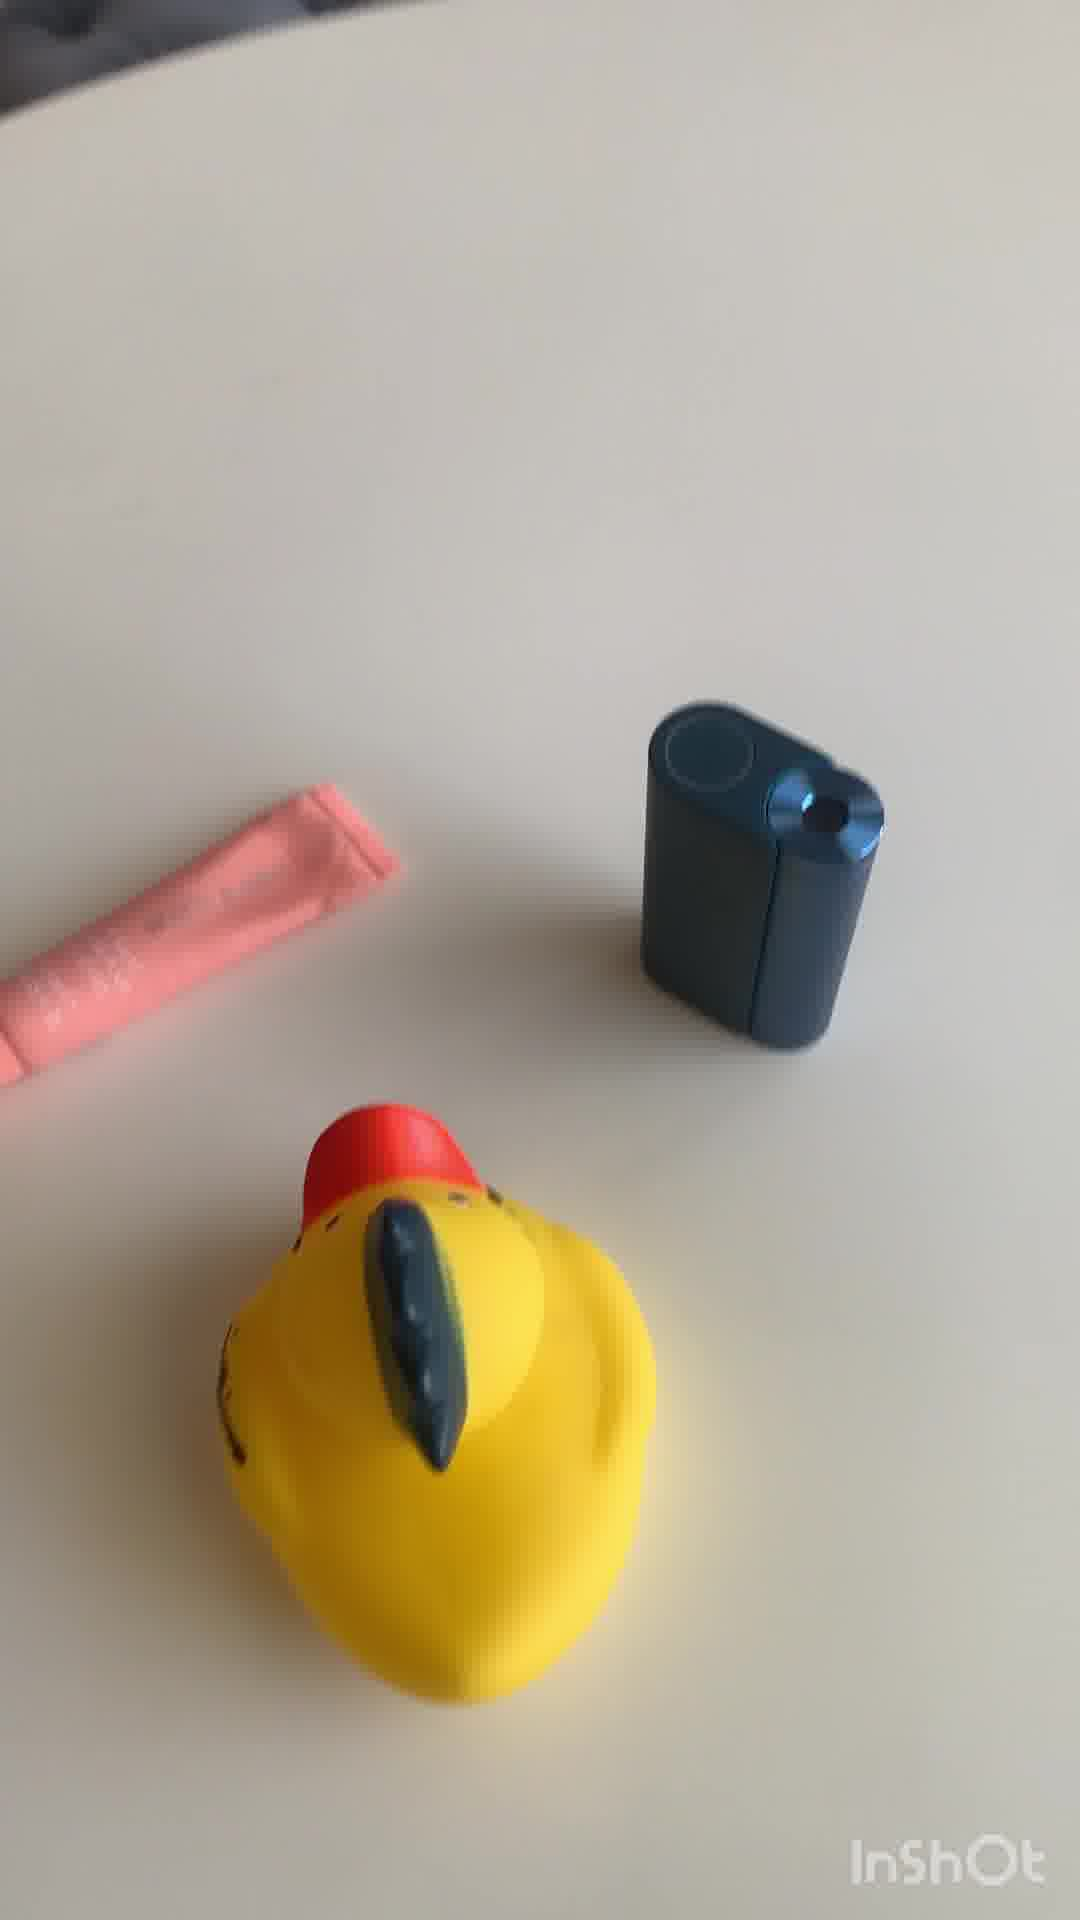duck: (214, 1105, 665, 1708)
glo: (632, 703, 887, 1048)
lip balm: (1, 782, 413, 1095)
